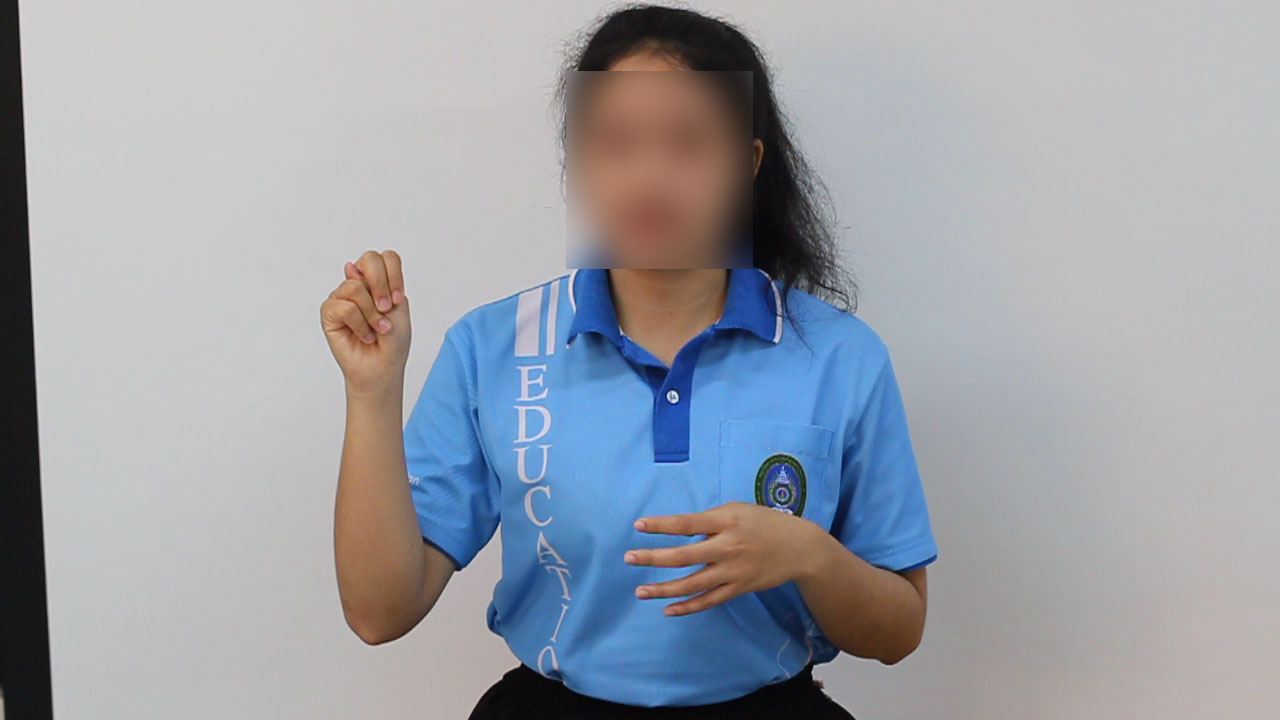nor: (311, 241, 425, 398)
